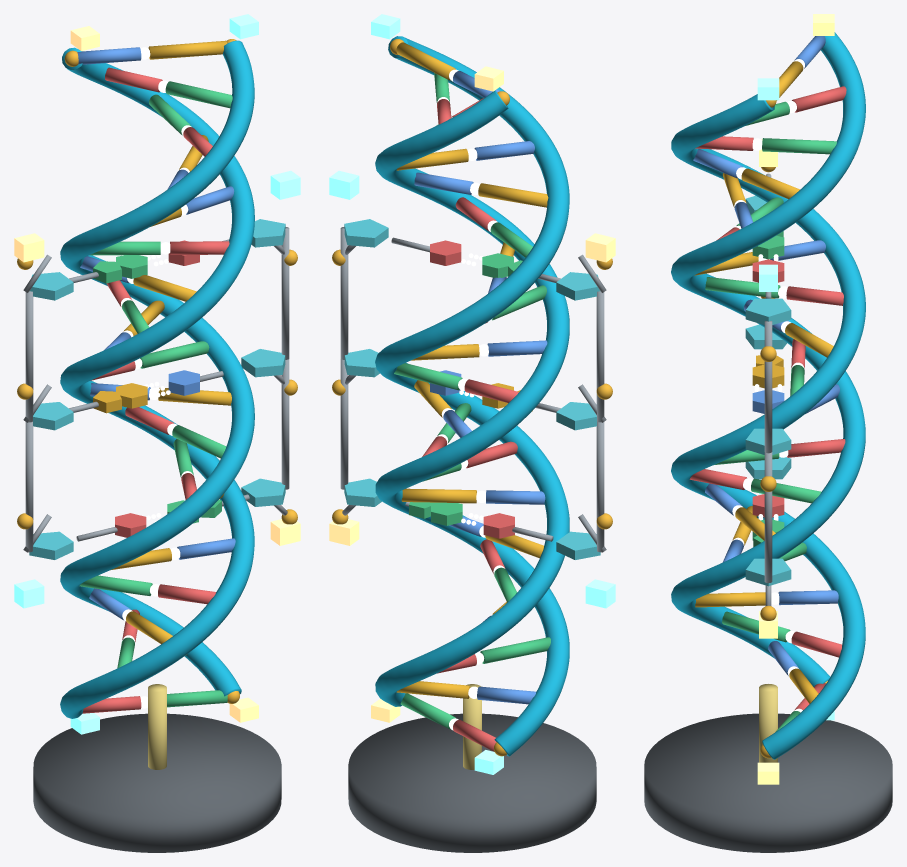
The model's file is dna-double-helix.glb.
3 views of the same model, side by side, from view 1: azimuth 30°, elevation 25°; view 2: azimuth 150°, elevation 25°; view 3: azimuth 270°, elevation 25° (orthographic).
Visible parts, largest first — view 1: Full_Stand_Base, Full_Strand_0, Full_Strand_1, Full_Stand_Pillar, Full_BaseL_19, Detail_BB_StrandL_0, Detail_BB_StrandL_1, Detail_BB_StrandR_0, Detail_BB_StrandR_1, Detail_Sugar_R_1, Detail_Sugar_R_2, Full_BaseL_10 (+33 smaller); view 2: Full_Stand_Base, Full_Strand_0, Full_Strand_1, Detail_BB_StrandL_0, Detail_BB_StrandL_1, Detail_BB_StrandR_0, Full_BaseR_6, Detail_BB_StrandR_1, Detail_Sugar_R_0, Full_Stand_Pillar, Full_BaseL_15, Full_BaseR_2 (+34 smaller); view 3: Full_Stand_Base, Full_Strand_1, Full_Strand_0, Full_Stand_Pillar, Detail_BB_StrandR_0, Detail_BB_StrandR_1, Detail_Sugar_R_0, Full_BaseR_17, Full_BaseR_3, Detail_Sugar_R_2, Detail_Sugar_R_1, Full_BaseR_12 (+26 smaller).
Boxes of the visible parts, x1,y1,x2,y2 form: Full_Stand_Base: (33,713,281,852); Full_Strand_0: (60,40,254,696); Full_Strand_1: (60,47,254,718); Full_Stand_Pillar: (148,684,166,769); Full_BaseL_19: (148,40,226,59); Detail_BB_StrandL_0: (25,291,33,422); Detail_BB_StrandL_1: (25,421,33,552); Detail_BB_StrandR_0: (281,227,289,359); Detail_BB_StrandR_1: (281,359,289,489); Detail_Sugar_R_1: (241,349,285,377); Detail_Sugar_R_2: (241,478,285,506); Full_BaseL_10: (140,341,209,368); Full_Stand_Base: (348,713,596,852); Full_Strand_0: (375,36,569,706); Full_Strand_1: (375,90,569,756); Detail_BB_StrandL_0: (596,291,604,422); Detail_BB_StrandL_1: (596,421,604,552); Detail_BB_StrandR_0: (340,227,348,359); Full_BaseR_6: (401,488,476,503); Detail_BB_StrandR_1: (340,359,348,489); Detail_Sugar_R_0: (344,219,388,247); Full_Stand_Pillar: (463,684,481,769); Full_BaseL_15: (478,183,548,207); Full_BaseR_2: (480,637,550,663); Full_Stand_Base: (644,713,892,852); Full_Strand_1: (671,32,865,686); Full_Strand_0: (671,94,865,759); Full_Stand_Pillar: (759,684,777,762); Detail_BB_StrandR_0: (764,321,772,453); Detail_BB_StrandR_1: (764,452,772,583); Detail_Sugar_R_0: (745,298,791,324); Full_BaseR_17: (762,138,836,154); Full_BaseR_3: (695,592,765,607); Detail_Sugar_R_2: (745,558,791,586); Detail_Sugar_R_1: (745,428,791,454); Full_BaseR_12: (705,277,780,298).
Size of the model in its own units: 0.0674 by 0.1755 by 0.052.
